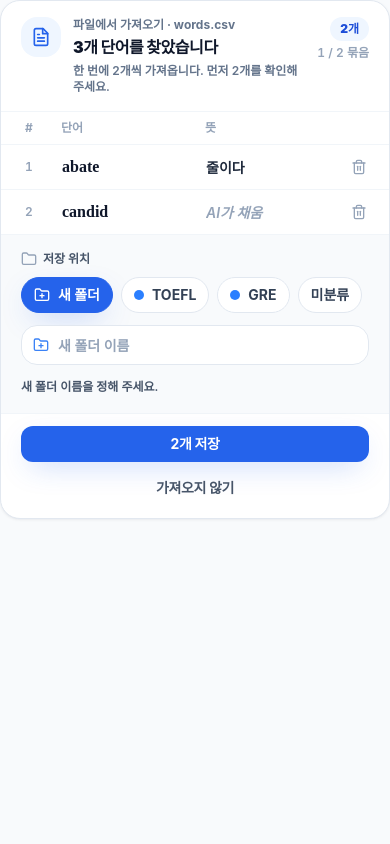
Test: AiFileImportCard › requires a name when saving into a new folder
Click the button "2개 저장".
click(195, 444)  # box top-left (21, 426), bottom-right (369, 462)
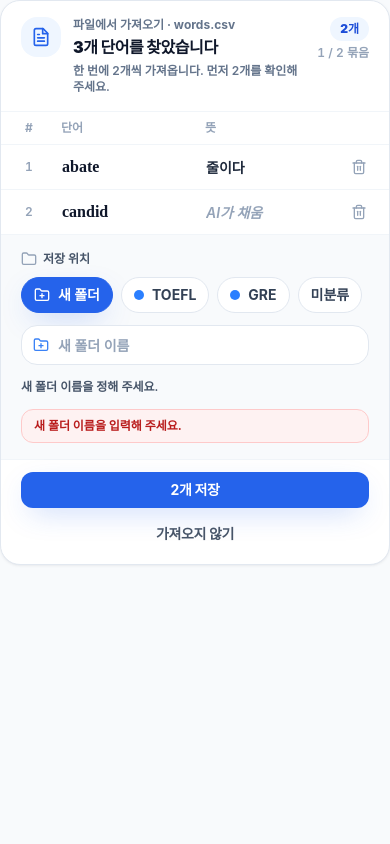
Now the message reads "새 폴더 이름을 입력해 주세요.", box top-left (34, 418), bottom-right (182, 433)
